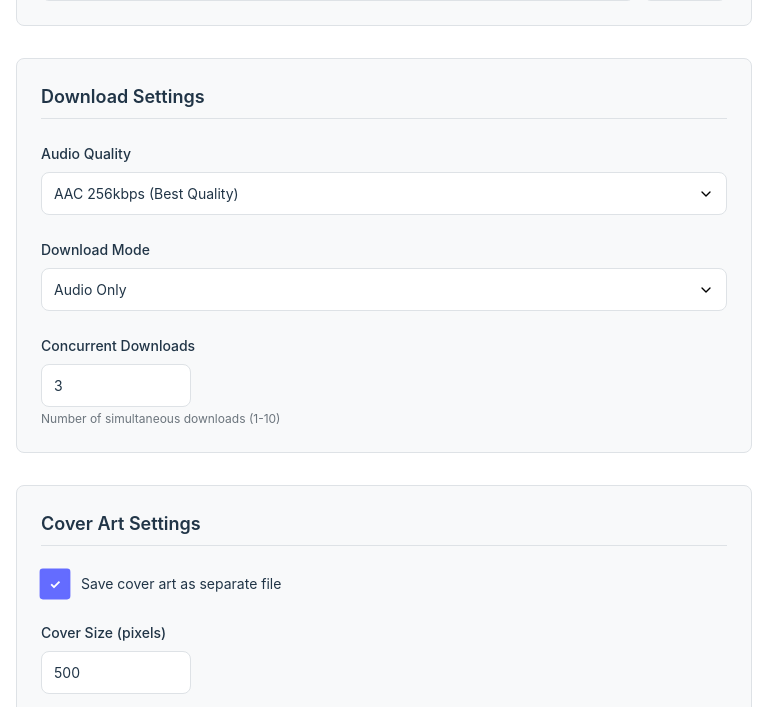
Scenario: ConfigEditor Component › validates concurrent limit range
(page scrolled)
// Set invalid concurrent limit
Replace the text in the number field showing "3" with "15" at (116, 386), box [41, 364, 191, 407]
(page scrolled)
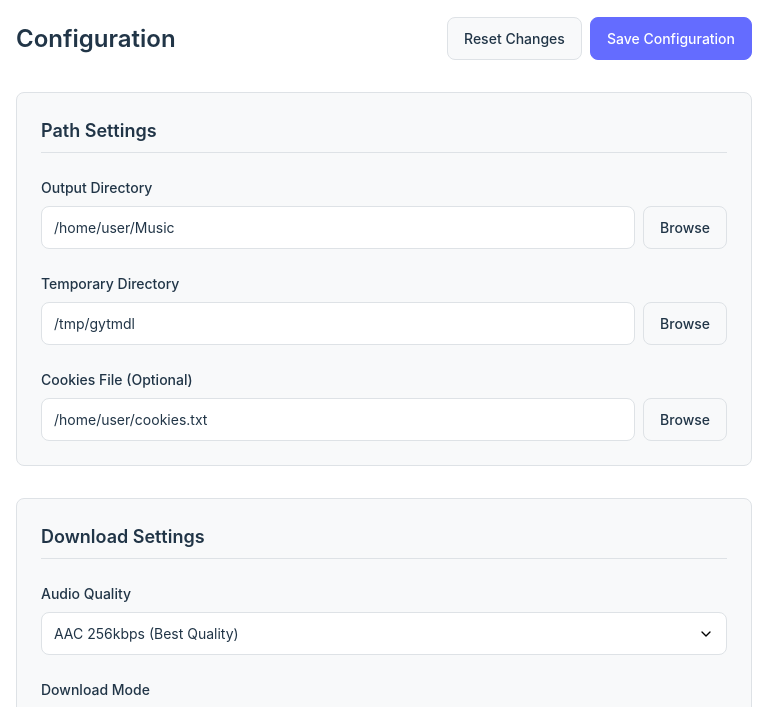
Click the button "Save Configuration" at (671, 38), box [590, 17, 752, 60]
(page scrolled)
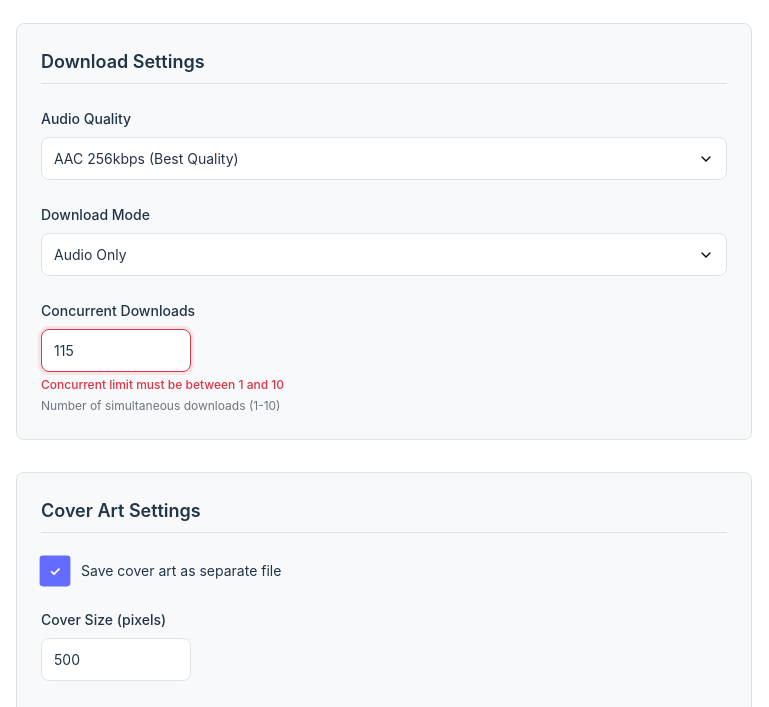
Expected: the text "Concurrent limit must be between 1 and 10" is shown, [41, 377, 284, 392]
